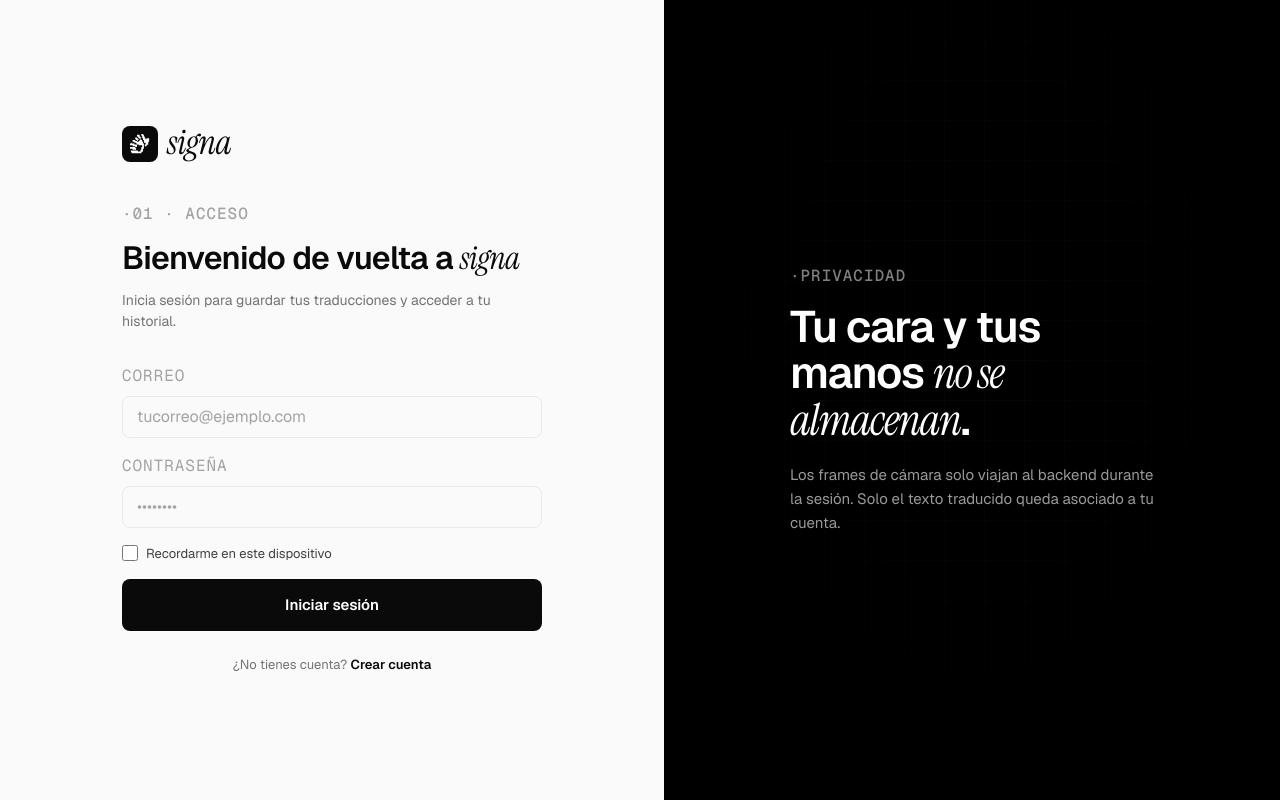
Scenario: LoginPage › shows zod error when email is invalid
The width and height of the screenshot is (1280, 800).
Type "no-email" into the field labelled "Correo". click: (332, 416)
box: [122,396,542,438]
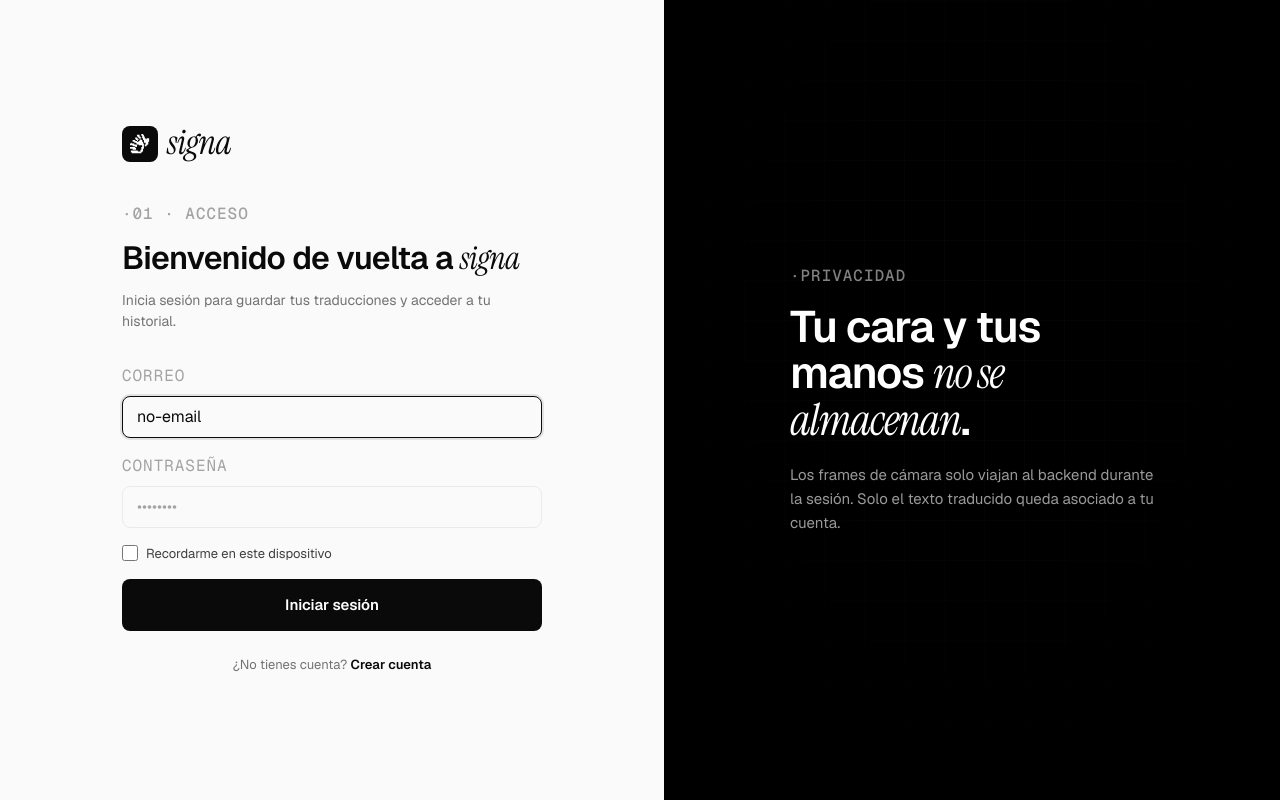
Type "pass" into the password field labelled "Contraseña". click: (332, 506)
box: [122,486,542,528]
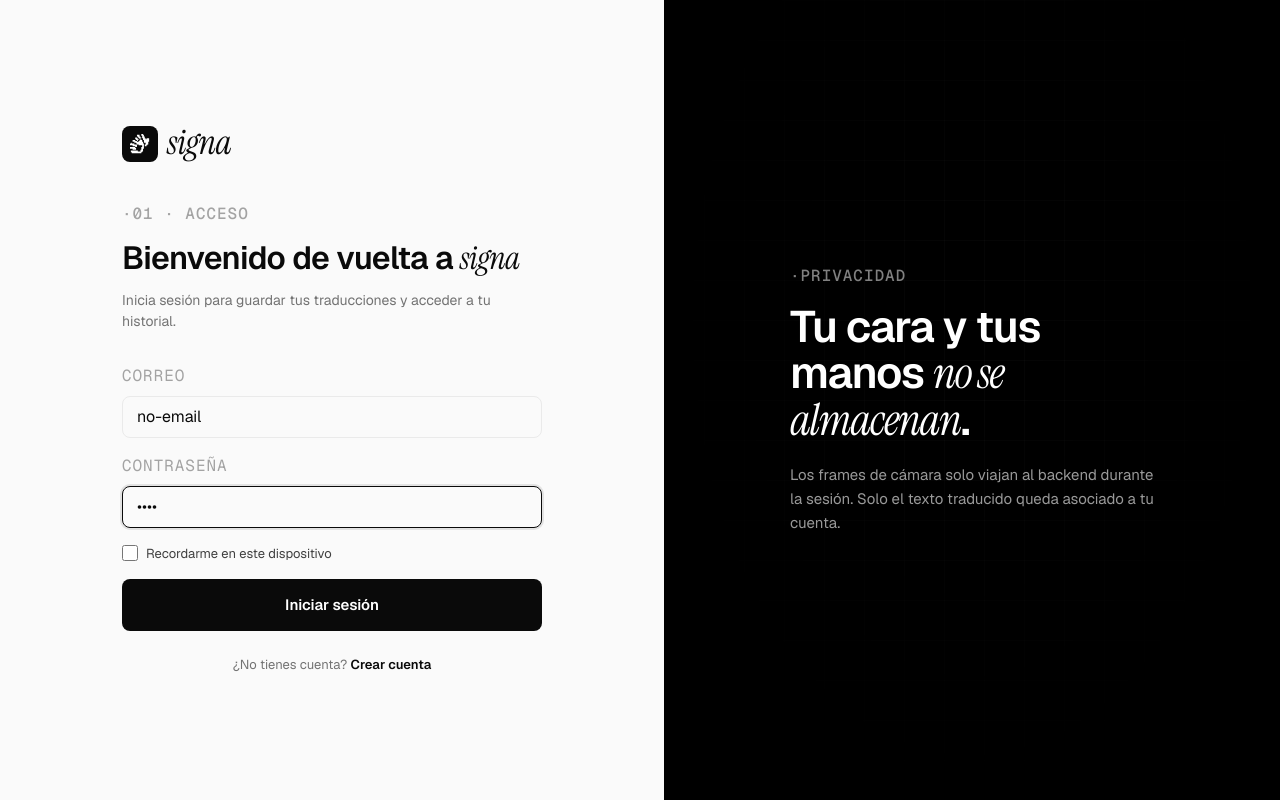
Click the button "Iniciar sesión". click: (332, 605)
box: [122,579,542,631]
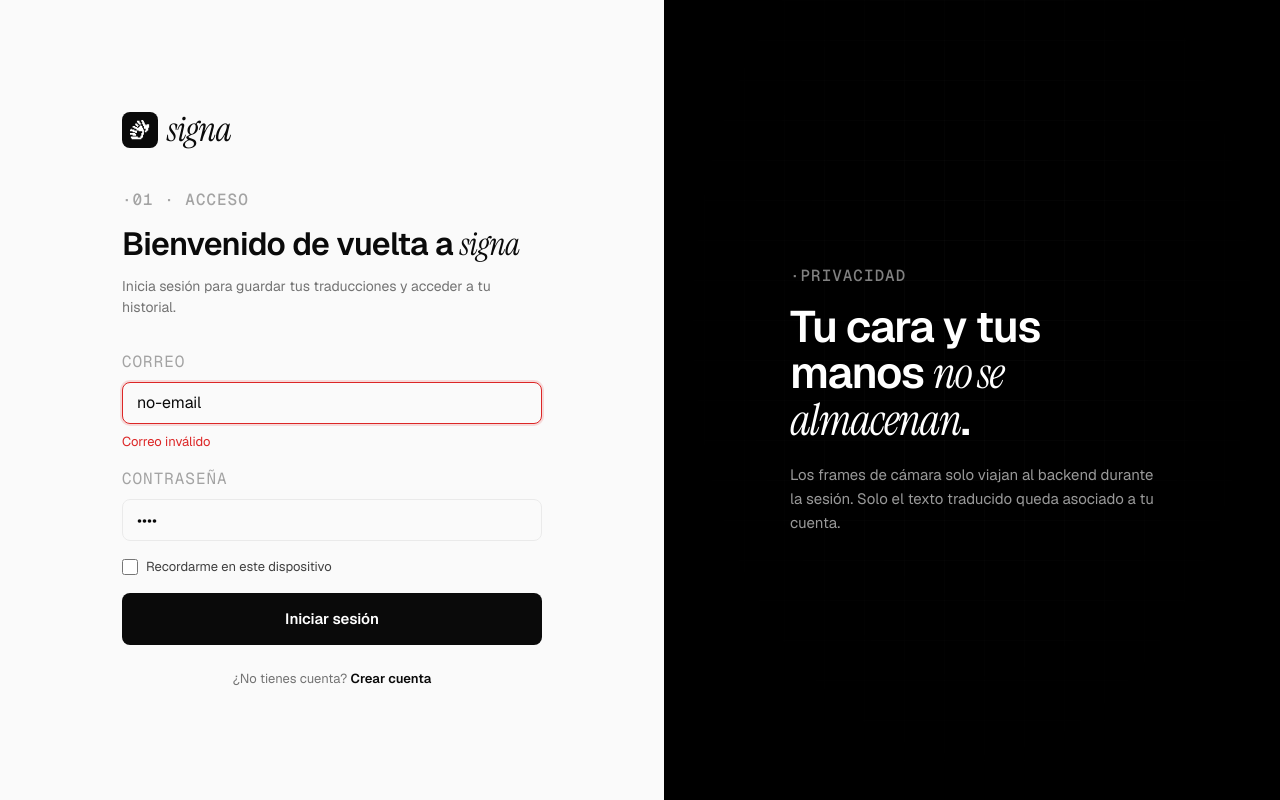
Now the text "Correo inválido" is shown, box [122,433,211,450]
